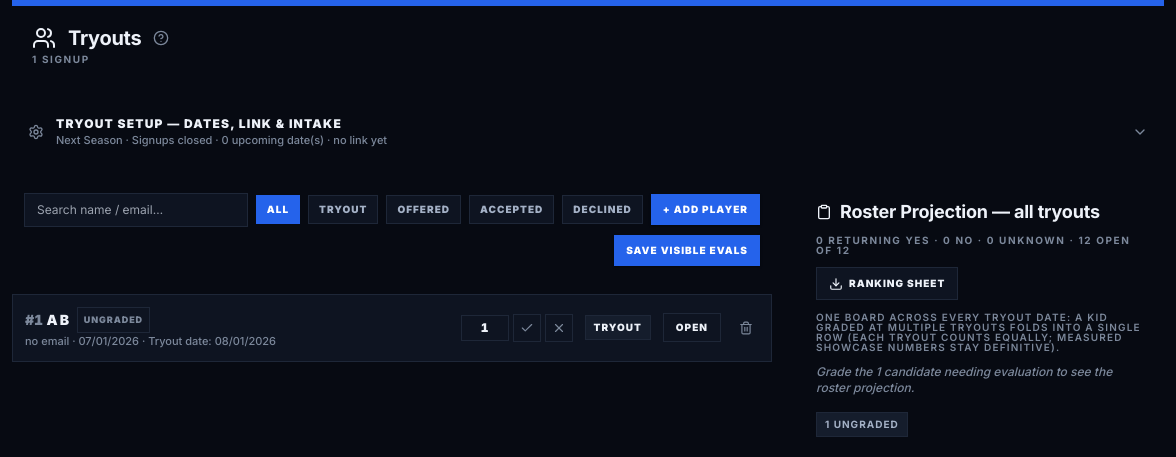
Test: TryoutsTab › coach-adds a walk-up on /tryouts/add with an auto-assigned number
# The tab's button routes to the walk-up page…
Click the button "+ Add Player" at (705, 210), box [651,194,760,225]
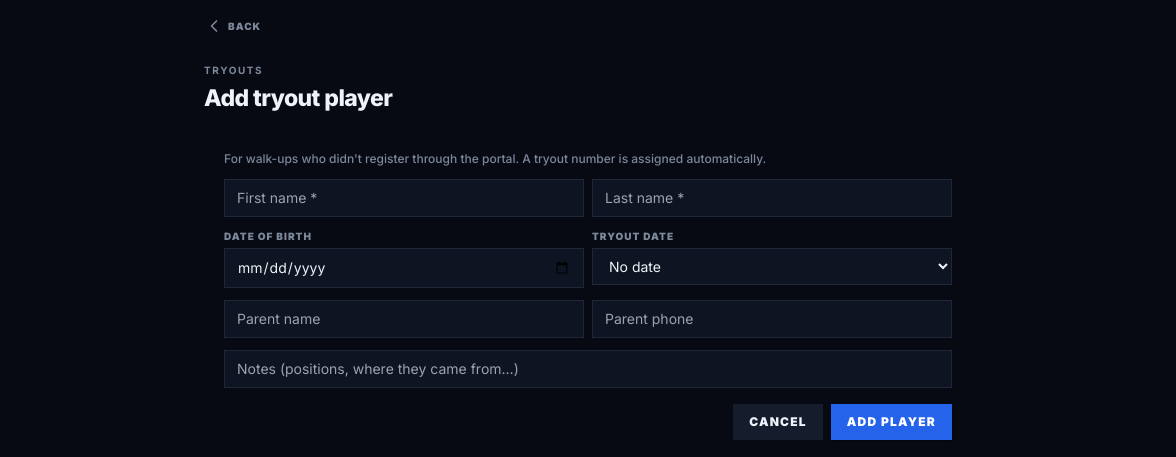
Expected: the heading "Add tryout player" is shown, [204,86,392,111]
# …where the form submits and returns to the tab.
Type "Walk" into the field labelled "First name" at (404, 198), box [224,179,584,217]
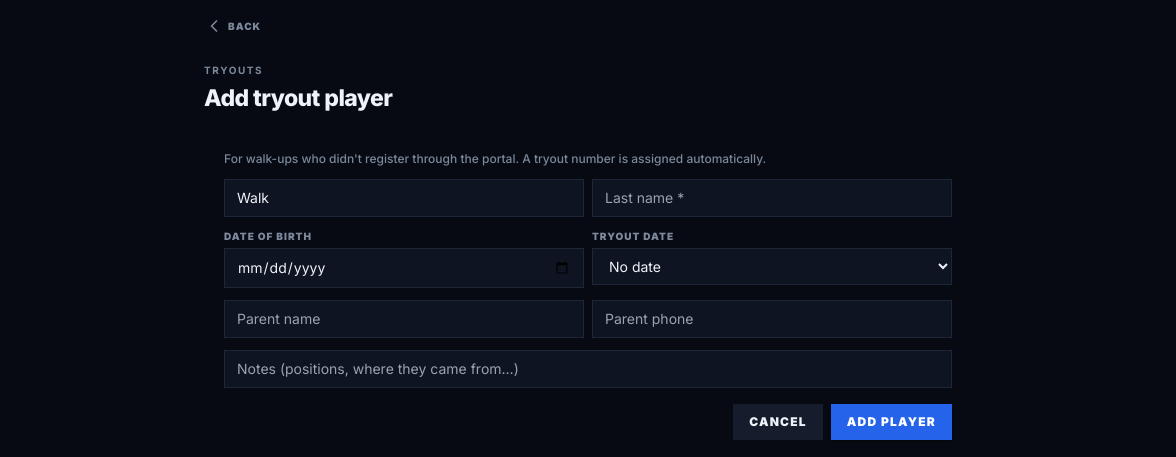
Type "Up" into the field labelled "Last name" at (772, 198), box [592,179,952,217]
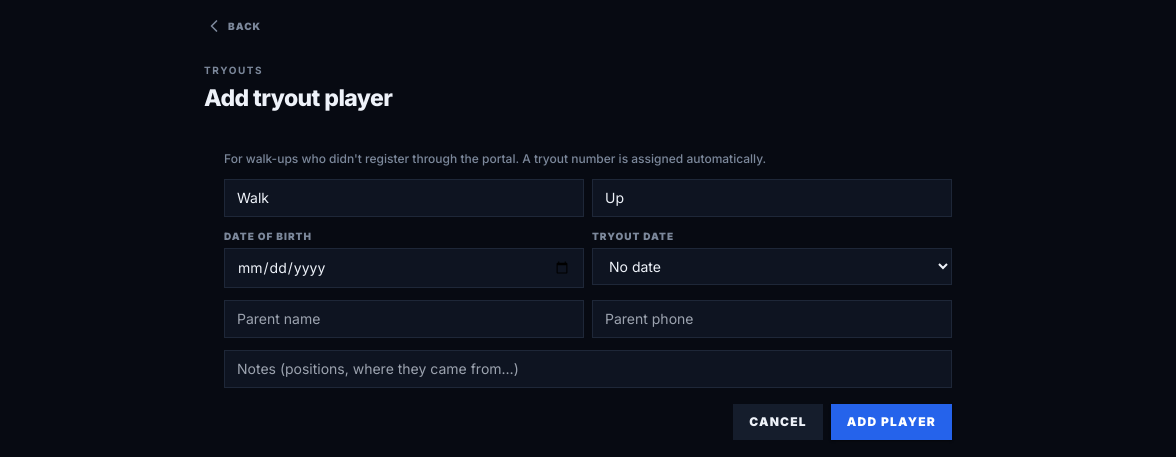
Select "2026-08-01" in the dropdown labelled "Tryout date" at (772, 267), box [592,248,952,285]
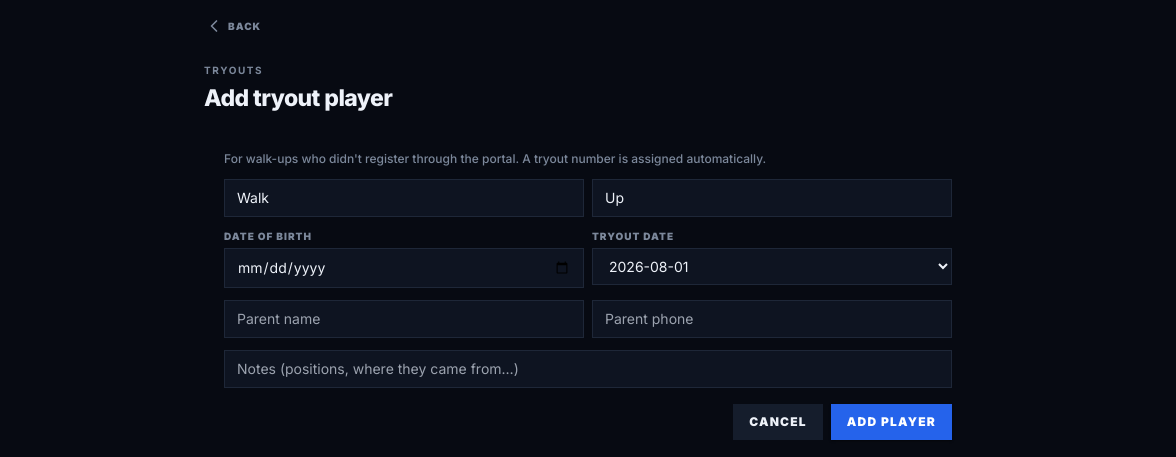
Click the button "Add Player" at (891, 422), box [831,404,952,440]
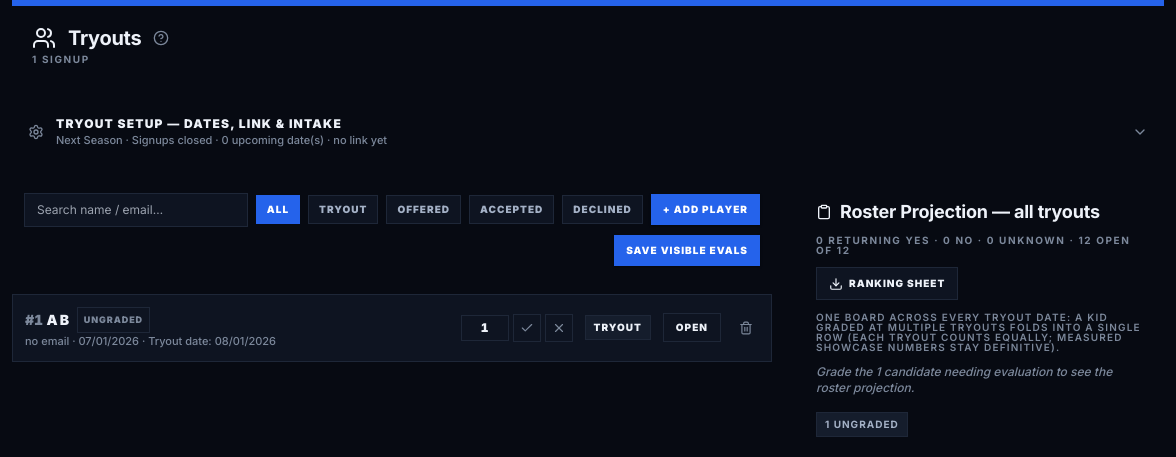
Expected: the text "Tryout setup — dates, link & intake" is shown, [56,116,342,131]
